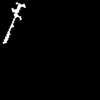double_crochet: (3, 3, 24, 43)
